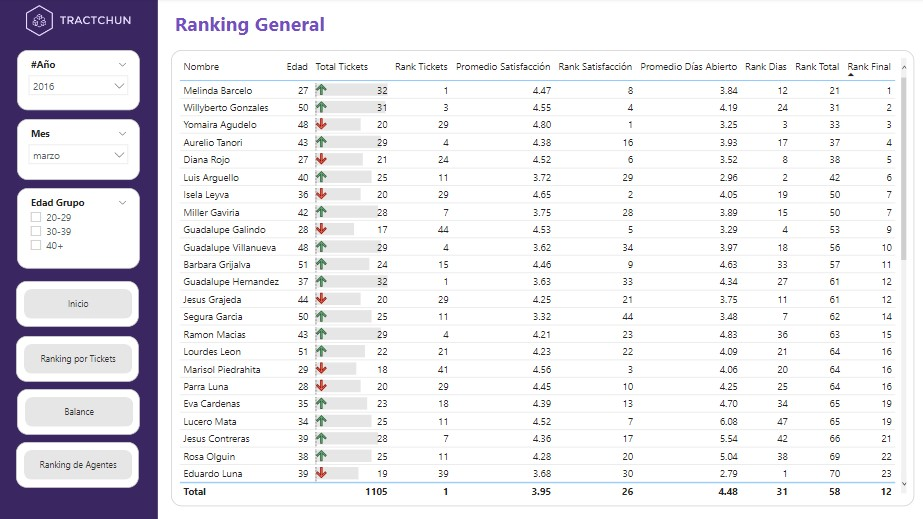

What the dashboard file says about the page in this screenshot:
{"tool":"powerbi","page":{"name":"Ranking General","canvas":[1280,720],"ordinal":3},"visuals":[{"type":"basicShape","title":"Panel Izquierda","box":[0,0,220.2,719.8],"z":0},{"type":"slicer","fields":{"Values":["d_Calendario.#Año"]},"box":[26.2,71.6,169.3,82.6],"z":1000},{"type":"slicer","fields":{"Values":["d_Calendario.Mes"]},"box":[26.2,166.5,169.3,84],"z":2000},{"type":"tableEx","fields":{"Values":["d_Agentes.Nombre","d_Agentes.Edad","DAX Medidas.Total Tickets","DAX Medidas.Rank Tickets","DAX Medidas.Promedio Satisfacción","DAX Medidas.Rank Satisfacción","DAX Medidas.Promedio Días Abierto","DAX Medidas.Rank Dias","DAX Medidas.Rank Total","DAX Medidas.Rank Final"]},"box":[238.1,71.6,1022.6,627.6],"z":3000},{"type":"slicer","fields":{"Values":["d_Agentes.Edad Grupo"]},"box":[26.2,261.5,169.3,111.5],"z":4000},{"type":"image","box":[0,0,220.2,61.9],"z":5000},{"type":"textbox","box":[238.1,11,423.9,50.9],"z":6000},{"type":"group","id":"g1","title":"Grupo 1","box":[24.8,611.1,169.3,61.9],"z":7000},{"type":"group","id":"g2","title":"Grupo 1","box":[26.2,538.2,169.3,61.9],"z":8000},{"type":"group","id":"g3","title":"Grupo 1","box":[24.8,465.2,169.3,61.9],"z":9000},{"type":"group","id":"g4","title":"Grupo 1","box":[24.8,389.5,169.3,61.9],"z":10000},{"type":"textbox","box":[24.8,389.5,168.7,62.8],"z":14000,"group":"g4"},{"type":"textbox","box":[24.8,465.2,168.7,62.8],"z":14000,"group":"g3"},{"type":"textbox","box":[26.2,538.2,168.7,62.8],"z":14000,"group":"g2"},{"type":"textbox","box":[24.8,611.1,168.7,62.8],"z":14000,"group":"g1"},{"type":"actionButton","box":[35.3,401.1,148.9,40.7],"z":15000,"group":"g4"},{"type":"actionButton","box":[35.3,476.8,148.9,40.7],"z":15000,"group":"g3"},{"type":"actionButton","box":[36.7,549.8,148.9,40.7],"z":15000,"group":"g2"},{"type":"actionButton","box":[35.3,622.7,148.9,40.7],"z":15000,"group":"g1"}]}

Visuals, with their boxes in screenshot pixels (x1, y1, x2, y2), scaled from the page's 1280x720 canvas onto the 923x519 screenshot:
"Panel Izquierda" basicShape: detection(0, 0, 159, 518)
slicer - d_Calendario.#Año: detection(19, 52, 141, 111)
slicer - d_Calendario.Mes: detection(19, 120, 141, 181)
tableEx - d_Agentes.Nombre x d_Agentes.Edad: detection(172, 52, 909, 504)
slicer - d_Agentes.Edad Grupo: detection(19, 188, 141, 269)
image: detection(0, 0, 159, 45)
textbox: detection(172, 8, 477, 45)
"Grupo 1" group: detection(18, 441, 140, 485)
"Grupo 1" group: detection(19, 388, 141, 433)
"Grupo 1" group: detection(18, 335, 140, 380)
"Grupo 1" group: detection(18, 281, 140, 325)
textbox: detection(18, 281, 140, 326)
textbox: detection(18, 335, 140, 381)
textbox: detection(19, 388, 141, 433)
textbox: detection(18, 441, 140, 486)
actionButton: detection(25, 289, 133, 318)
actionButton: detection(25, 344, 133, 373)
actionButton: detection(26, 396, 134, 426)
actionButton: detection(25, 449, 133, 478)
